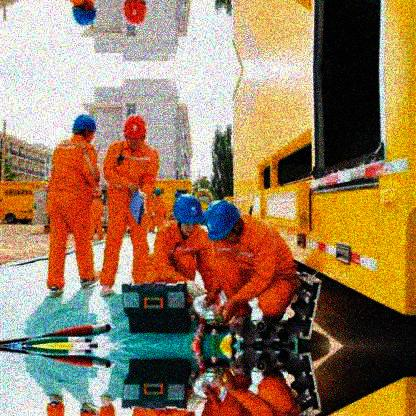helmet: (203, 200, 244, 243), (172, 193, 206, 234), (121, 113, 148, 151), (72, 113, 99, 142), (71, 1, 99, 27)
